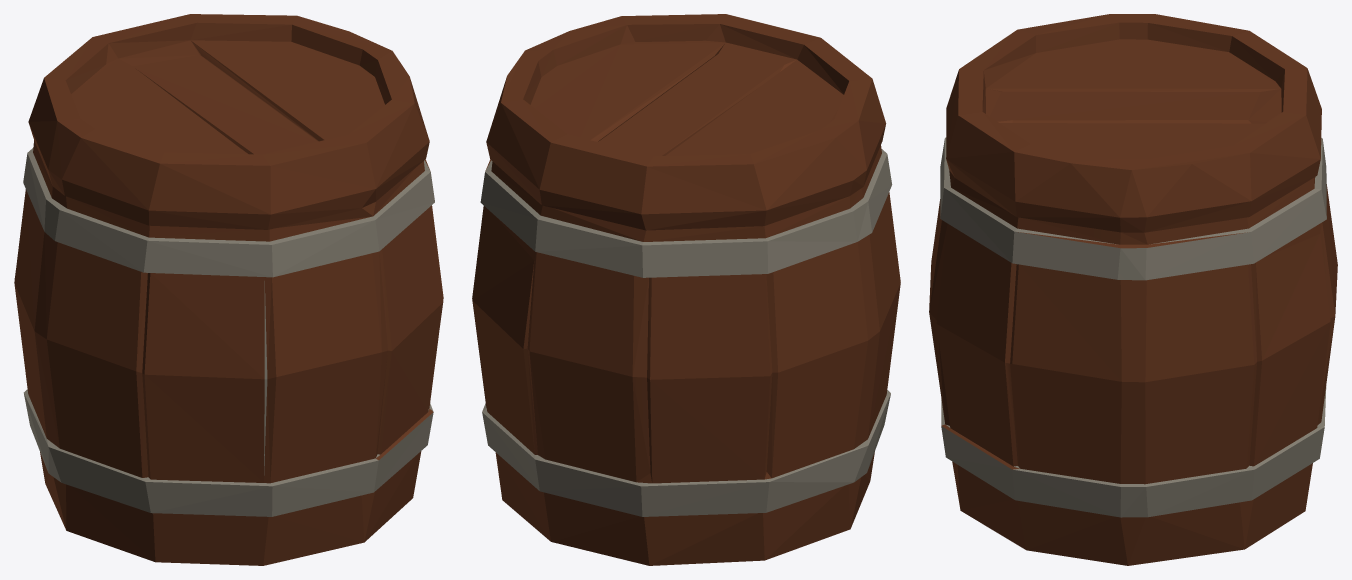
The model's file is SM_barril.glb.
3 views of the same model, side by side, from view 1: azimuth 30°, elevation 25°; view 2: azimuth 150°, elevation 25°; view 3: azimuth 270°, elevation 25° (orthographic).
Parts seen in each view (by area): view 1: model; view 2: model; view 3: model.
Boxes of the visible parts, box(x1,y1,x2,y2) form: model: box(14, 14, 443, 565); model: box(472, 14, 900, 565); model: box(929, 14, 1337, 565).
Size of the model in its own units: 0.981 by 1 by 0.9332.
Materials: 1 (1 with a texture image).
